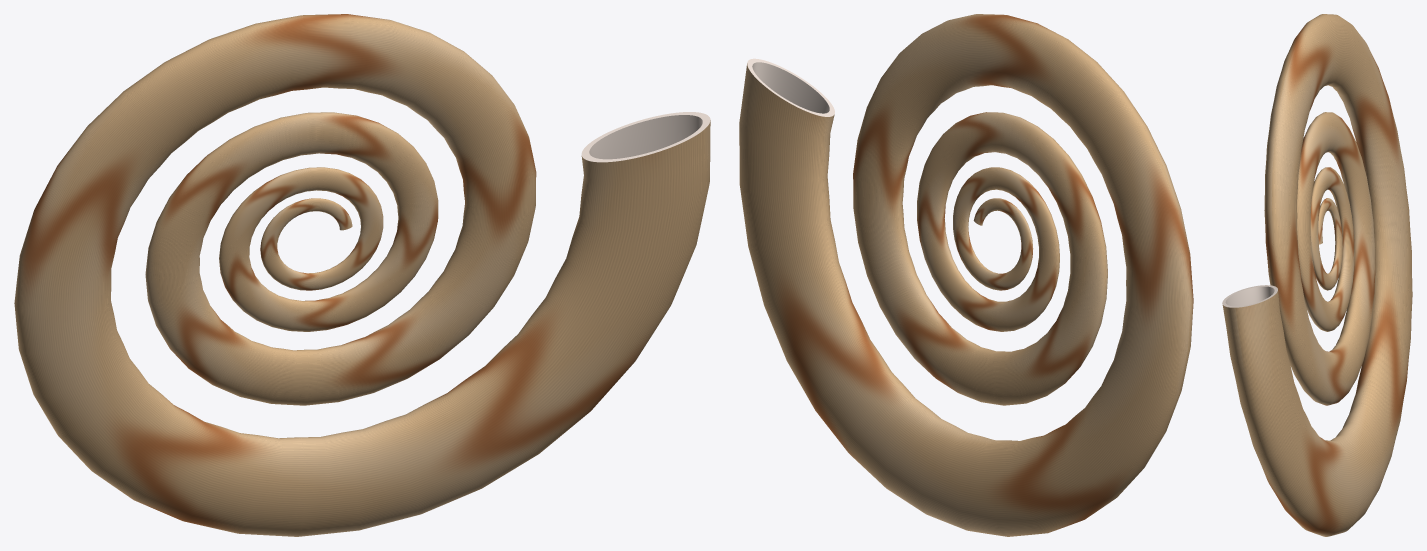
File: sundial.glb
The picture shows the model from 3 angles, left to right: view 1: azimuth 30°, elevation 25°; view 2: azimuth 150°, elevation 25°; view 3: azimuth 270°, elevation 25°; orthographic projection. The views are drawn at different scales.
Visible parts, largest first — view 1: sundial.001; view 2: sundial.001; view 3: sundial.001.
Part boxes in pixels (left/top/right/bottom): sundial.001: left=14, top=14, right=710, bottom=536; sundial.001: left=739, top=14, right=1193, bottom=536; sundial.001: left=1222, top=14, right=1412, bottom=536.
Bounding box in the file's own units: 2.03 × 1.8 × 0.6879.
3 materials, 1 textured.
